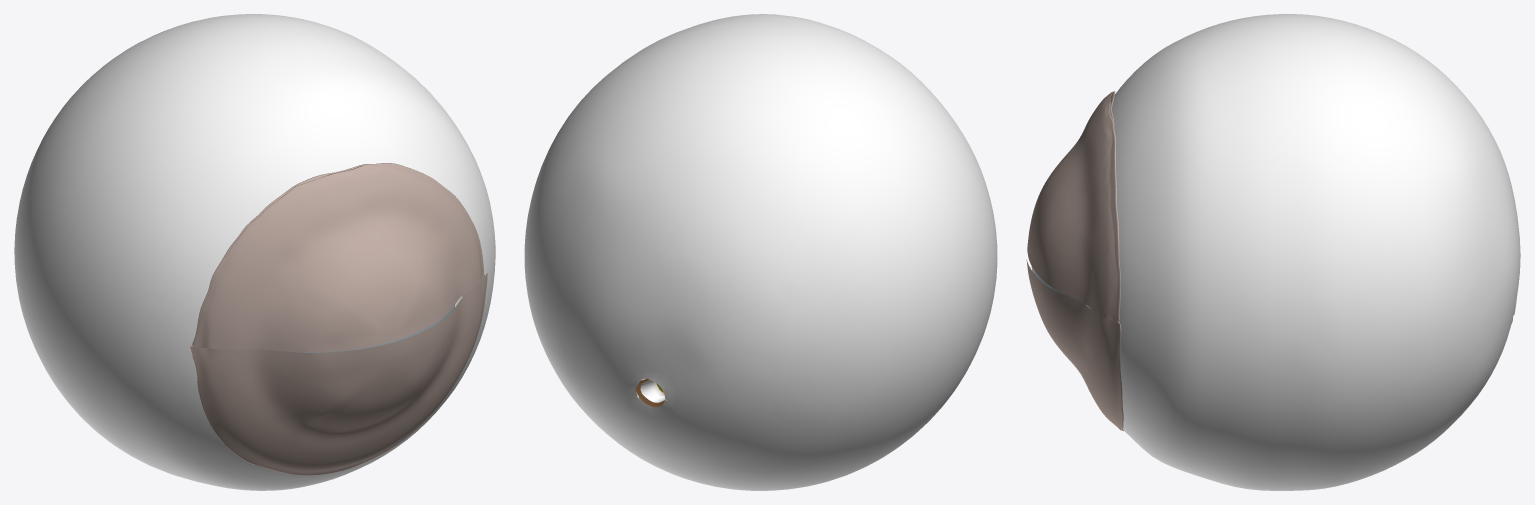
File: hra-eye-right-female-v1.glb
The picture shows the model from 3 angles, left to right: view 1: azimuth 30°, elevation 25°; view 2: azimuth 150°, elevation 25°; view 3: azimuth 270°, elevation 25°; orthographic projection.
Parts seen in each view (by area): view 1: VH_F_sclera_R, VH_F_palpebral_conjunctiva_of_right_upper_eyelid, VH_F_palpebral_conjunctiva_of_right_lower_eyelid, VH_F_bulbar_conjunctiva_R; view 2: VH_F_sclera_R; view 3: VH_F_sclera_R, VH_F_palpebral_conjunctiva_of_right_upper_eyelid, VH_F_palpebral_conjunctiva_of_right_lower_eyelid, VH_F_bulbar_conjunctiva_R.
Part boxes in pixels (x1=…): VH_F_sclera_R: x1=14, y1=14, x2=495, y2=490; VH_F_palpebral_conjunctiva_of_right_upper_eyelid: x1=192, y1=164, x2=484, y2=352; VH_F_palpebral_conjunctiva_of_right_lower_eyelid: x1=188, y1=273, x2=487, y2=475; VH_F_bulbar_conjunctiva_R: x1=192, y1=163, x2=484, y2=474; VH_F_sclera_R: x1=524, y1=14, x2=997, y2=490; VH_F_sclera_R: x1=1087, y1=14, x2=1520, y2=490; VH_F_palpebral_conjunctiva_of_right_upper_eyelid: x1=1027, y1=91, x2=1119, y2=323; VH_F_palpebral_conjunctiva_of_right_lower_eyelid: x1=1026, y1=259, x2=1121, y2=430; VH_F_bulbar_conjunctiva_R: x1=1090, y1=91, x2=1123, y2=431.
Size of the model in its own units: 0.0245 by 0.0245 by 0.0254.
